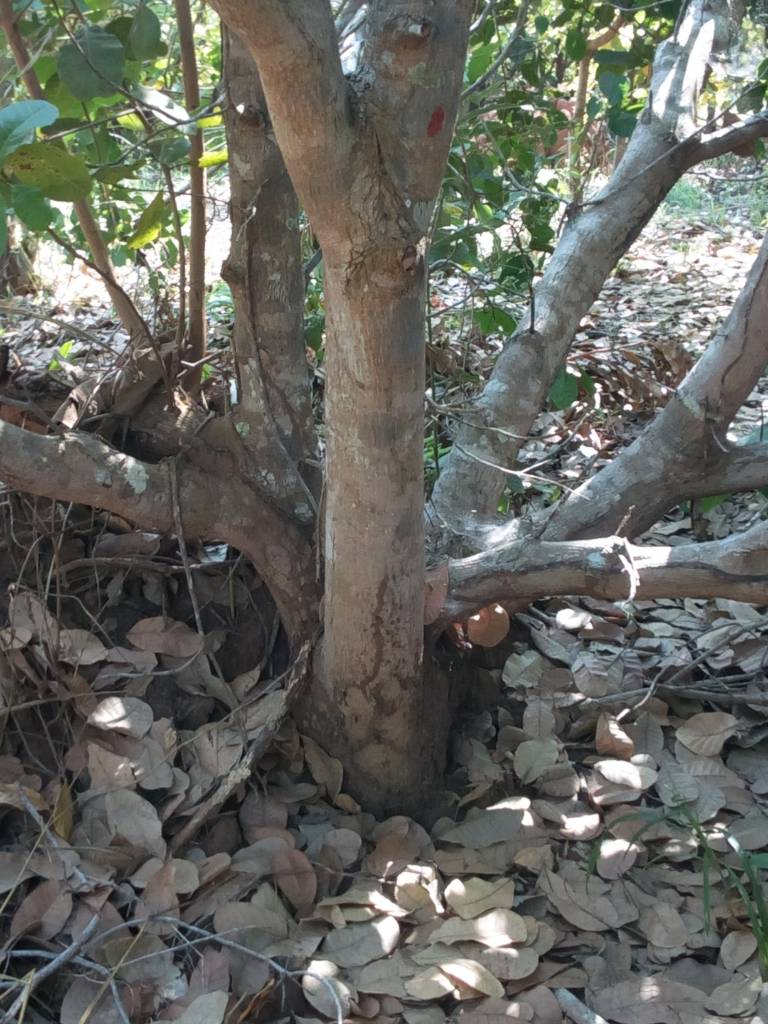Termites: (349, 578, 460, 803)
